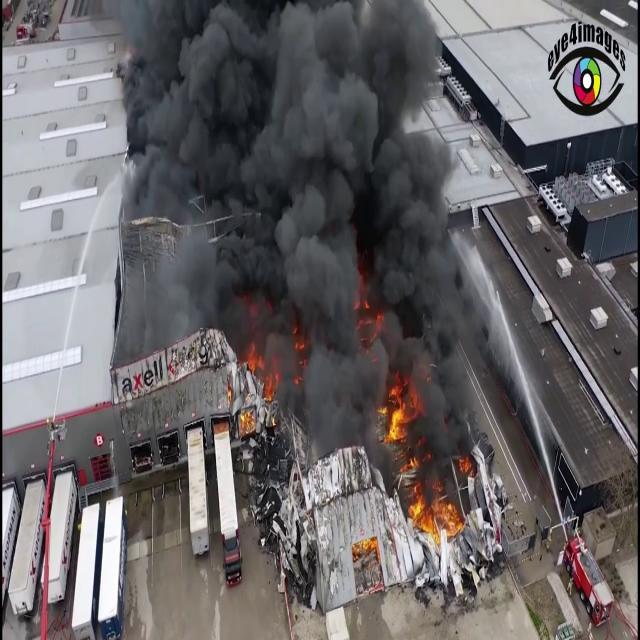Fire: (400, 483, 464, 554), (374, 371, 426, 446)
Smoke: (134, 1, 492, 420)
